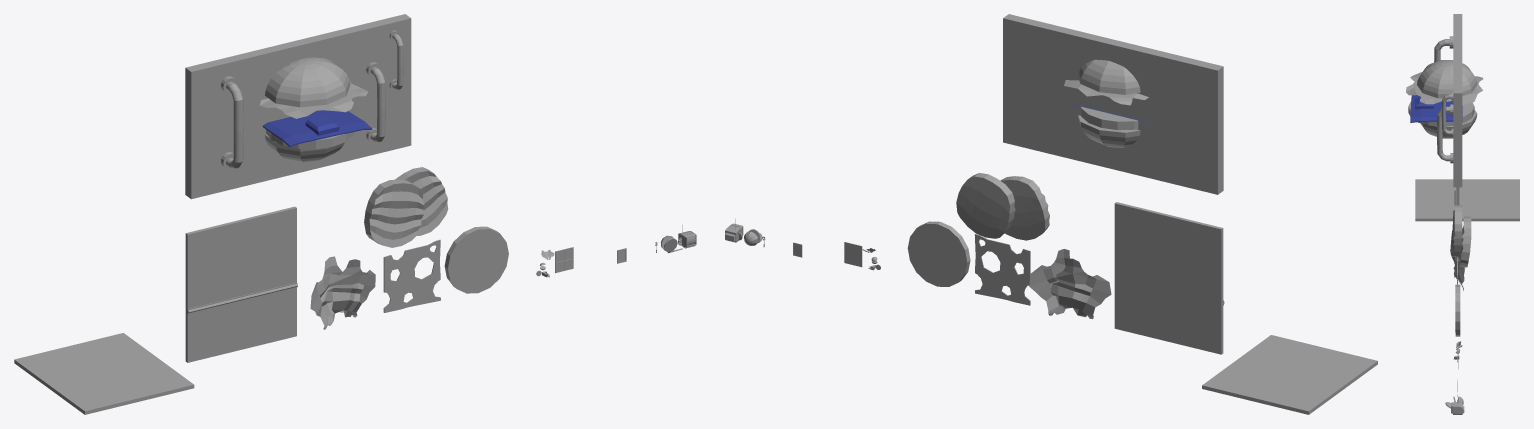
File: Frame.obj
The picture shows the model from 3 angles, left to right: view 1: azimuth 30°, elevation 25°; view 2: azimuth 150°, elevation 25°; view 3: azimuth 270°, elevation 25°; orthographic projection. The views are drawn at different scales.
Visible parts, largest first — view 1: Cylinder.012_Cylinder.026, Cube.001_Cube.021, Cube.004_Cube.031, Sphere.000_Sphere.010, Cylinder.004_Cylinder.008, Cylinder.001_Cylinder.006, Plane.002_Plane.012, Plane.004_Plane.011; view 2: Cylinder.012_Cylinder.026, Cube.001_Cube.021, Cube.004_Cube.031, Cylinder.004_Cylinder.008, Sphere.000_Sphere.010, Plane.002_Plane.012, Cylinder.001_Cylinder.006, Plane.004_Plane.011; view 3: Cube.004_Cube.031, Sphere.000_Sphere.010, Cylinder.012_Cylinder.026, Cylinder.004_Cylinder.008, Cylinder.001_Cylinder.006, Plane.002_Plane.012, Cube_Cube.018.
Part boxes in pixels (x1,y1,x2,y2): Cylinder.012_Cylinder.026: [185, 14, 411, 199]; Cube.001_Cube.021: [185, 206, 297, 362]; Cube.004_Cube.031: [14, 333, 194, 414]; Sphere.000_Sphere.010: [259, 57, 372, 162]; Cylinder.004_Cylinder.008: [364, 167, 448, 247]; Cylinder.001_Cylinder.006: [444, 226, 508, 293]; Plane.002_Plane.012: [310, 256, 375, 329]; Plane.004_Plane.011: [383, 239, 440, 312]; Cylinder.012_Cylinder.026: [1003, 14, 1223, 194]; Cube.001_Cube.021: [1114, 202, 1224, 354]; Cube.004_Cube.031: [1202, 335, 1377, 414]; Cylinder.004_Cylinder.008: [956, 173, 1049, 240]; Sphere.000_Sphere.010: [1064, 59, 1148, 147]; Plane.002_Plane.012: [1029, 249, 1111, 319]; Cylinder.001_Cylinder.006: [907, 221, 970, 286]; Plane.004_Plane.011: [974, 234, 1030, 305]; Cube.004_Cube.031: [1415, 179, 1519, 221]; Sphere.000_Sphere.010: [1406, 60, 1483, 138]; Cylinder.012_Cylinder.026: [1434, 14, 1462, 187]; Cylinder.004_Cylinder.008: [1450, 205, 1471, 267]; Cylinder.001_Cylinder.006: [1455, 284, 1460, 336]; Plane.002_Plane.012: [1450, 245, 1465, 290]; Cube_Cube.018: [1451, 397, 1464, 414].
Bounding box in the file's own units: 558 × 250 × 117.
